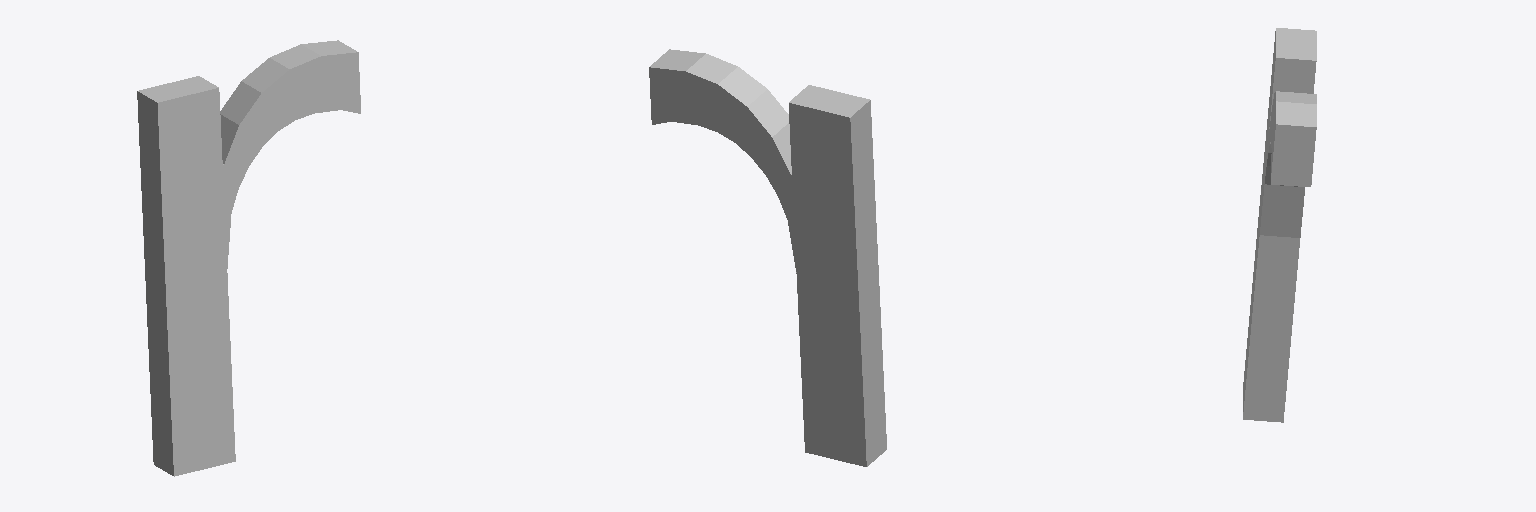
File: original-212.obj
3 views of the same model, side by side, from view 1: azimuth 30°, elevation 25°; view 2: azimuth 150°, elevation 25°; view 3: azimuth 270°, elevation 25° (orthographic).
Parts seen in each view (by area): view 1: #ID1221; view 2: #ID1221; view 3: #ID1221.
Part boxes in pixels (x1,y1,x2,y2): #ID1221: (137,40,360,476); #ID1221: (649,49,886,466); #ID1221: (1243,28,1316,422).
Bounding box in the file's own units: 0.0046 × 0.0081 × 0.0015.